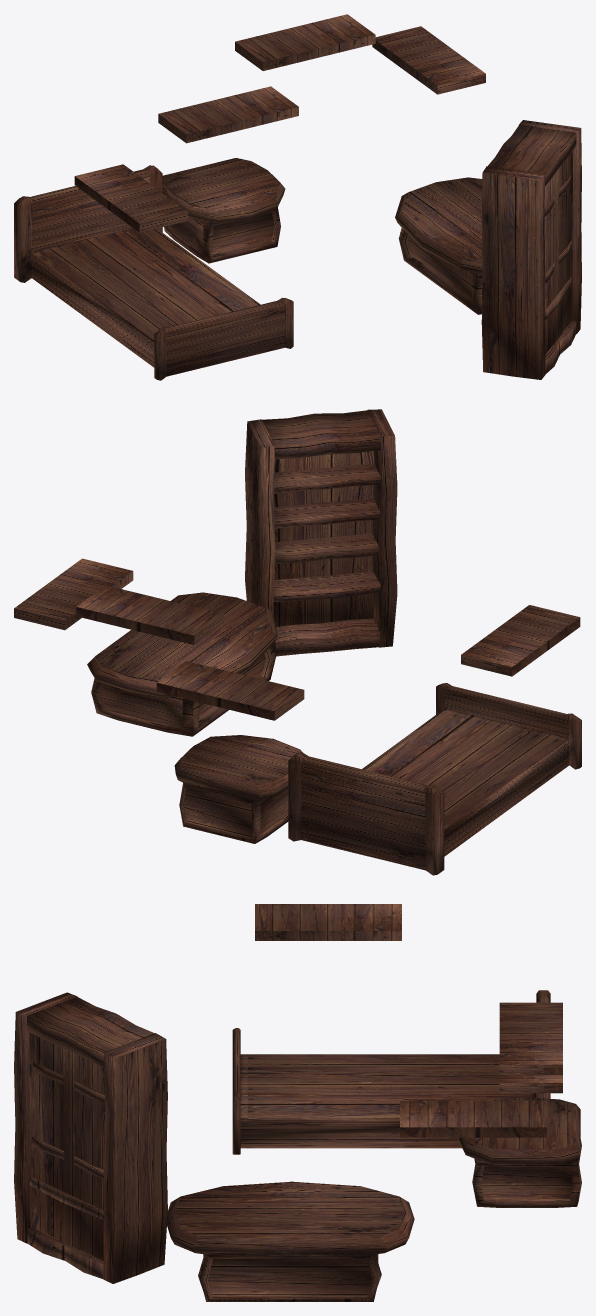
The model's file is furniture.obj.
3 renders of one model, top to bottom at view 1: azimuth 30°, elevation 25°; view 2: azimuth 150°, elevation 25°; view 3: azimuth 270°, elevation 25°, orthographic. The views are drawn at different scales.
Parts seen in each view (by area): view 1: Cube.106_Cube.107; view 2: Cube.106_Cube.107; view 3: Cube.106_Cube.107.
Boxes of the visible parts, bbox=[...] form: Cube.106_Cube.107: bbox=[14, 14, 581, 380]; Cube.106_Cube.107: bbox=[14, 409, 581, 875]; Cube.106_Cube.107: bbox=[14, 904, 581, 1301].
Size of the model in its own units: 24.58 by 11.61 by 25.93.
